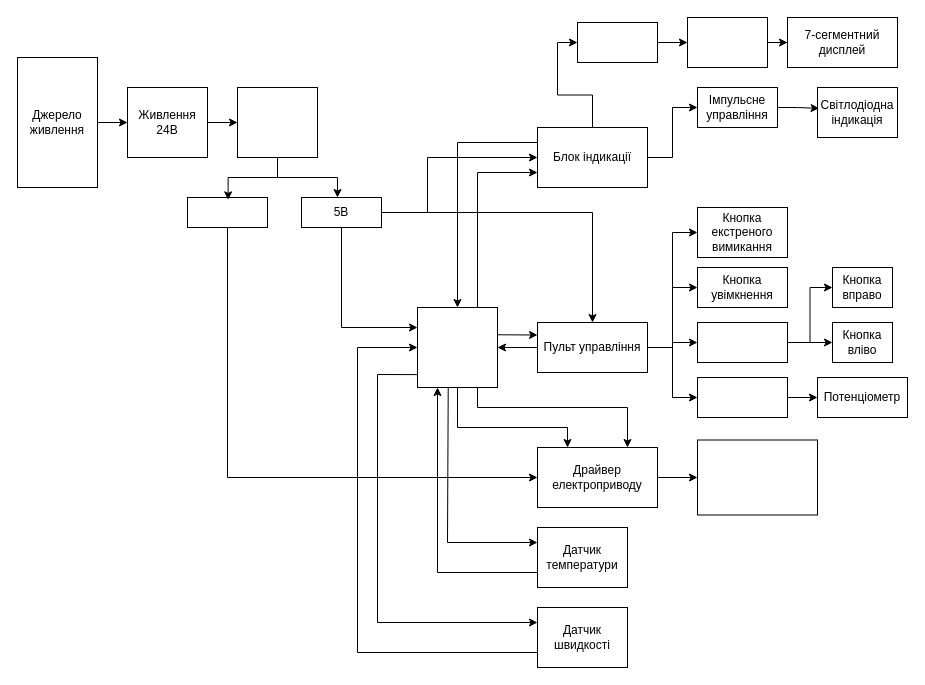
Some shapes in this 925 by 685 pixel diagram are drawn without their labels. The box of each missing label's shape, as (x1, y1, x2, y2) in pixels:
12В: (186, 196, 268, 228)
AC/DC: (236, 86, 318, 158)
Блок електроприводу: (696, 439, 818, 515)
Кнопки напряму: (696, 322, 788, 362)
Паралельний формат SPI: (686, 16, 768, 68)
ПЛК: (416, 306, 498, 388)
Регулятор швидкості: (696, 376, 788, 418)
Цифрове управління: (576, 22, 658, 62)
